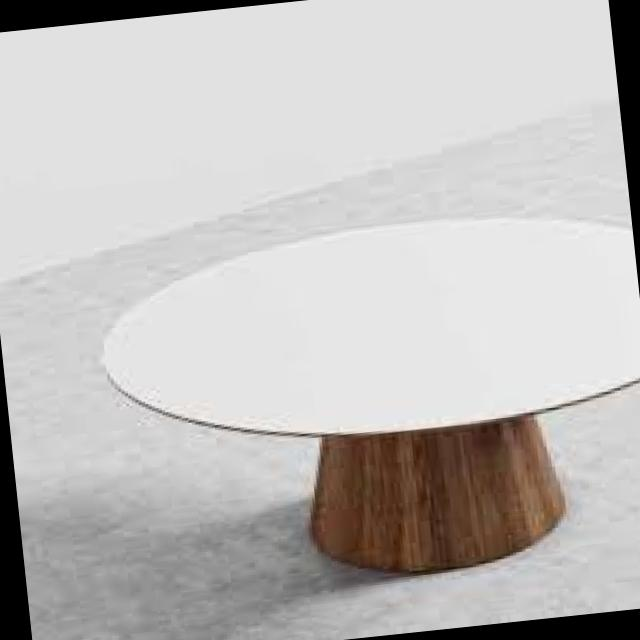obstacle: (59, 145, 640, 624)
